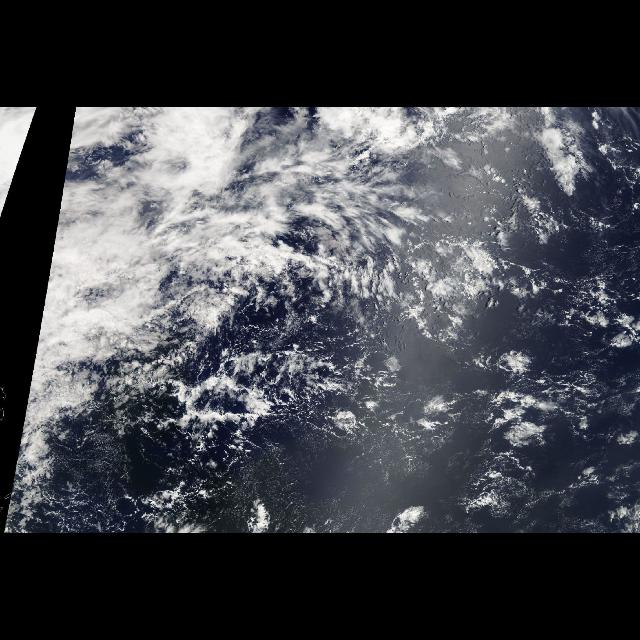Gravel: (171, 298, 639, 532)
